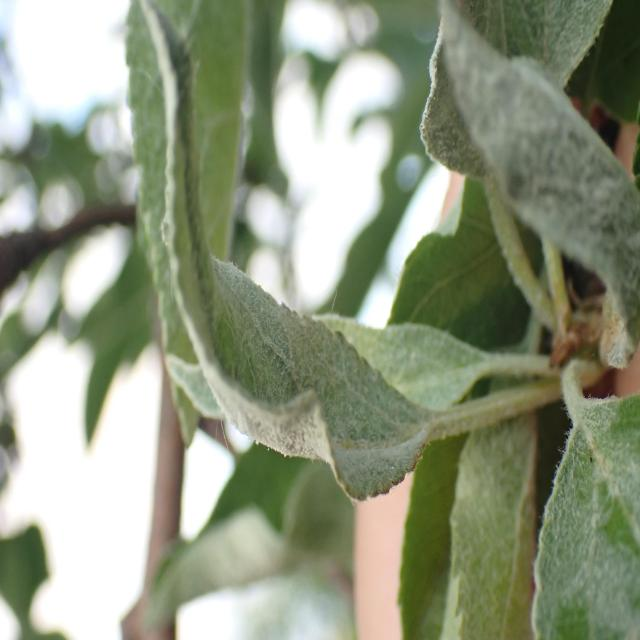Powdery_mildew: (108, 0, 447, 500), (428, 11, 640, 388), (504, 390, 640, 640)
